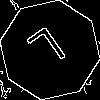L: (25, 25, 74, 79)
